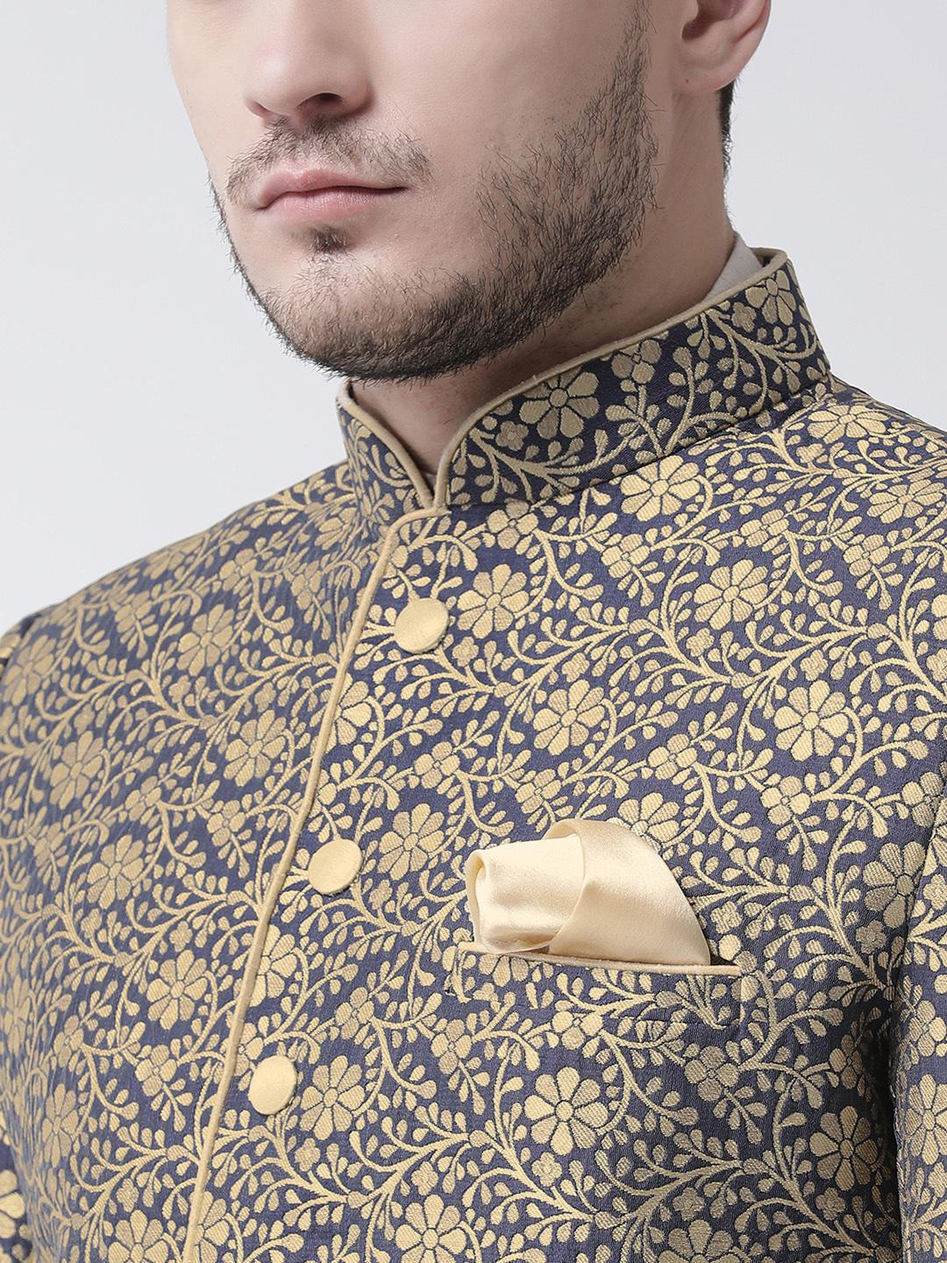Design Sherwani: (4, 237, 943, 1257)
